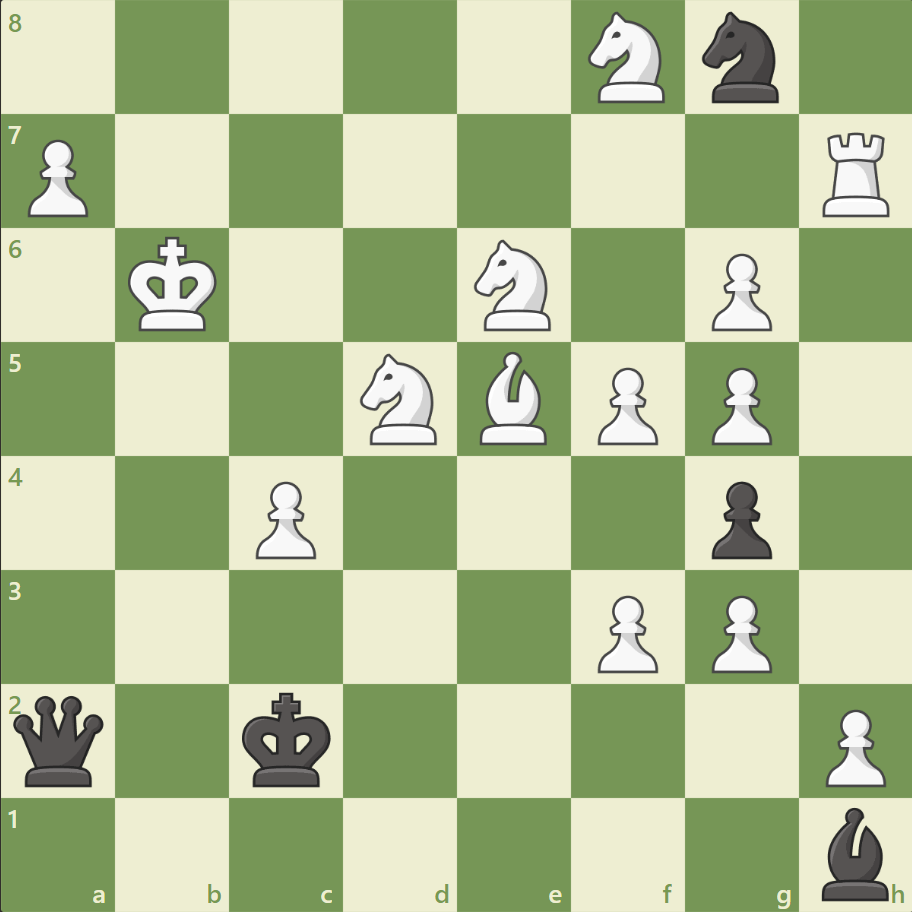B: (471, 347, 555, 449)
K: (124, 231, 224, 339)
N: (351, 348, 449, 450), (579, 7, 676, 110), (465, 234, 562, 337)
P: (20, 132, 95, 223), (701, 246, 776, 337), (701, 359, 776, 450), (247, 473, 322, 564), (701, 586, 776, 677), (588, 359, 662, 450), (588, 586, 662, 677), (815, 700, 889, 791)
R: (814, 125, 897, 222)
b: (812, 801, 896, 904)
k: (238, 685, 338, 793)
n: (692, 7, 789, 110)
p: (701, 473, 776, 564)
q: (10, 690, 109, 789)
